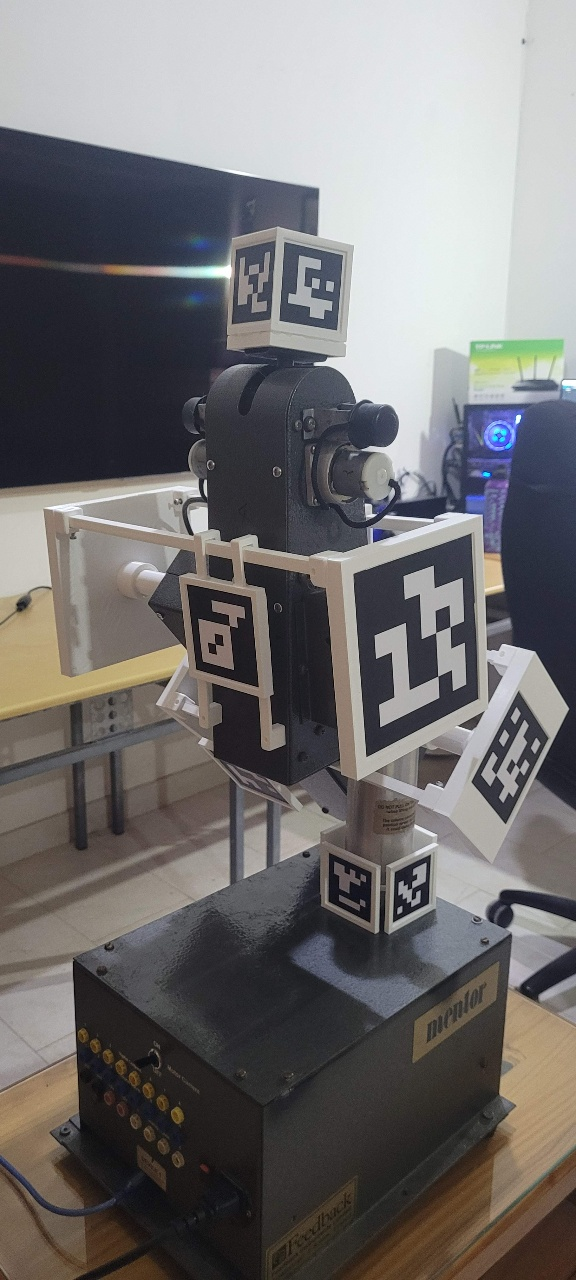Robot: (42, 224, 572, 932)
